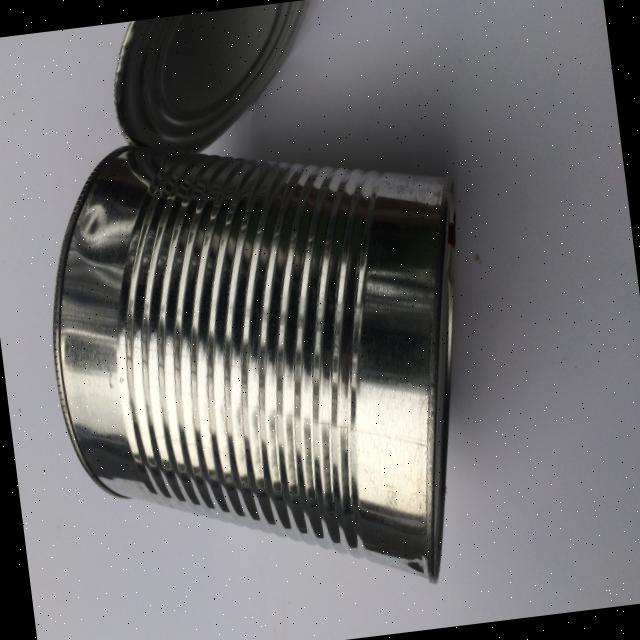metal: (28, 102, 502, 626)
